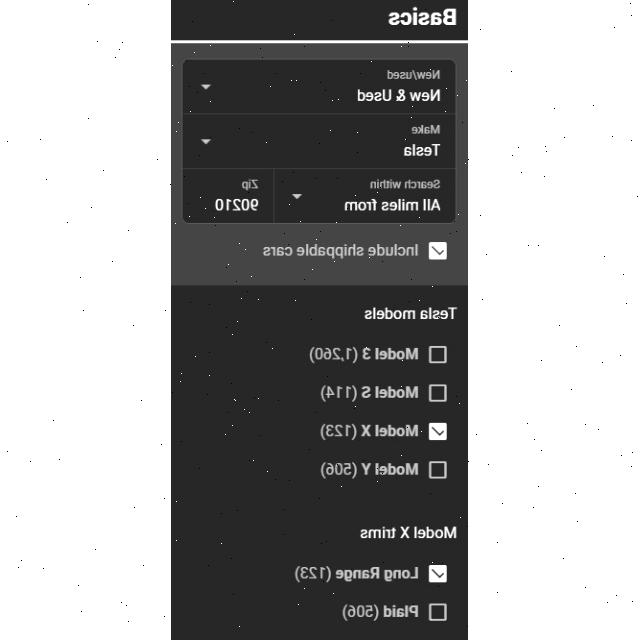QLabel: (296, 565, 422, 583), (264, 244, 424, 258), (308, 346, 422, 364), (321, 460, 425, 478), (387, 5, 461, 29), (323, 384, 423, 401), (322, 422, 422, 438), (342, 603, 422, 621), (359, 525, 459, 539), (364, 306, 460, 320)
VAppBar: (172, 0, 468, 44)
VCheckbox: (428, 564, 448, 584), (429, 423, 448, 441), (429, 242, 448, 260), (430, 461, 448, 479), (430, 345, 448, 363), (430, 603, 448, 621), (431, 385, 447, 401)
VCombobox: (182, 58, 458, 114), (182, 115, 458, 169), (276, 170, 456, 222)
VTextField: (185, 171, 273, 221)
